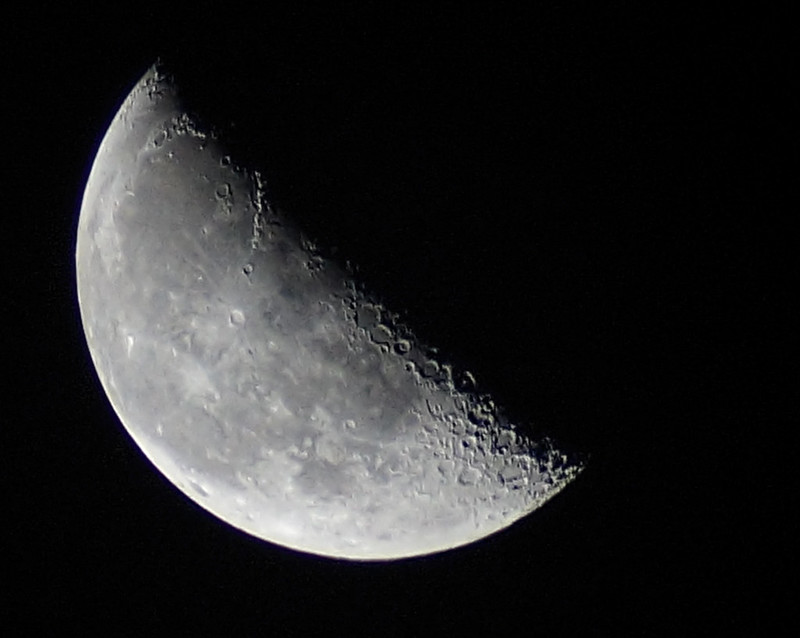crater: (336, 299, 394, 354), (135, 121, 179, 173), (328, 407, 371, 447), (217, 303, 253, 337), (454, 461, 486, 495), (237, 259, 267, 288), (121, 326, 145, 359), (208, 180, 234, 203), (150, 424, 171, 443), (213, 149, 232, 170), (207, 390, 227, 407)
